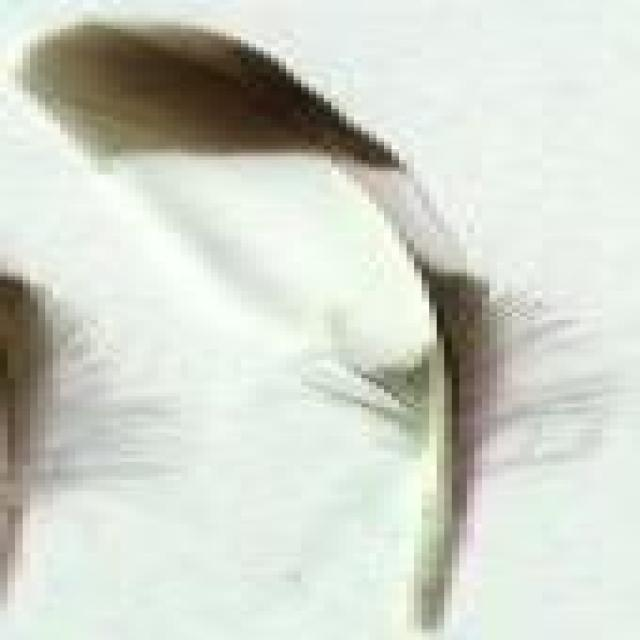feather: (6, 18, 640, 632)
